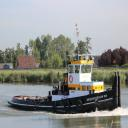tugboat: (7, 53, 123, 119)
